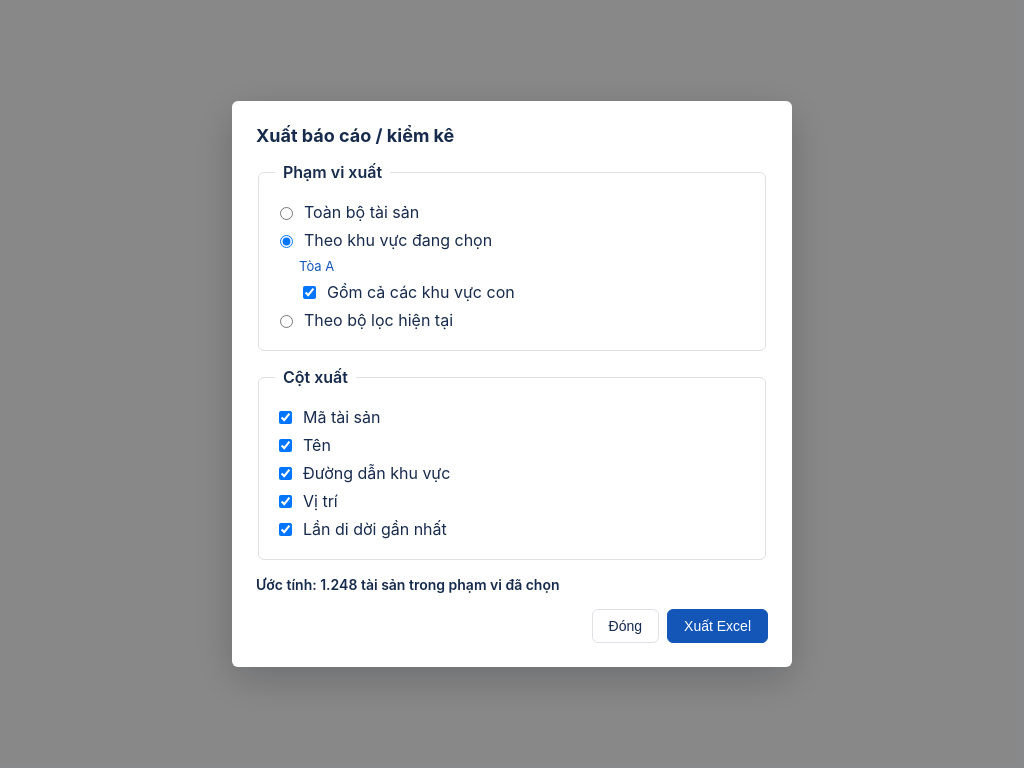
it: XuatBaoCaoModal — S08 › TC-S08-17: đổi phạm vi Toàn bộ → Tòa A gồm con cập nhật 1.250 → 1.248
Click the radio button labelled "Toàn bộ tài sản" at (286, 214), box [280,207,293,220]
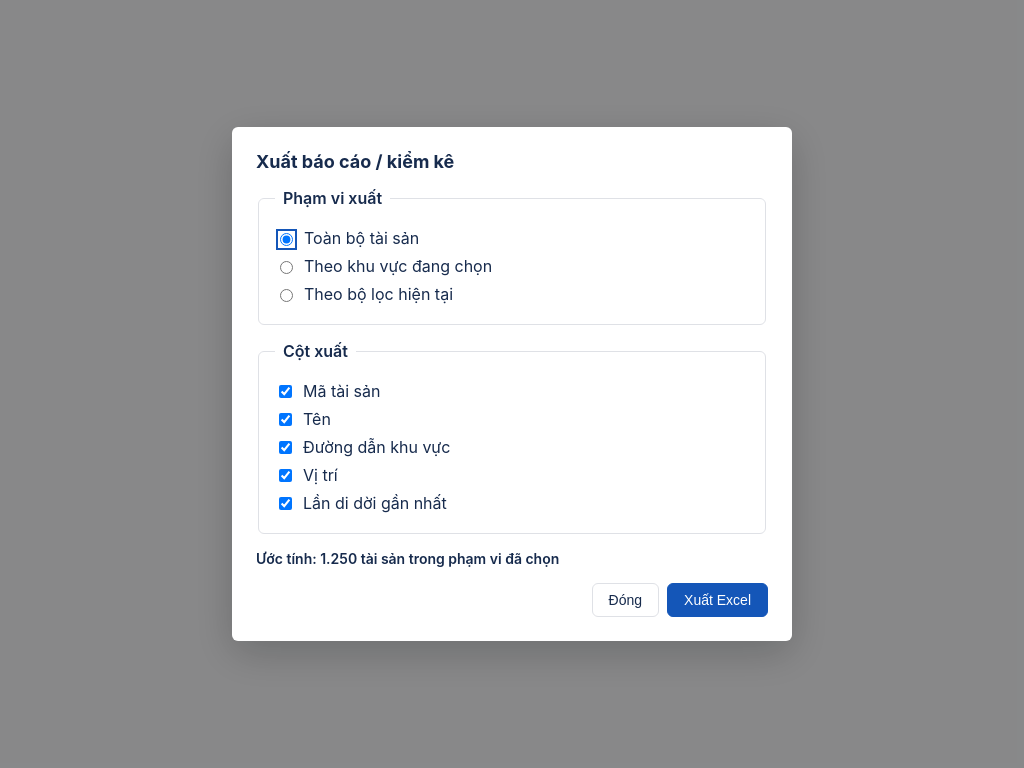
Check: the text "Ước tính: 1.250 tài sản trong phạm vi đã chọn" is shown, box [256,550,559,567]
Click the radio button labelled "Theo khu vực đang chọn" at (286, 268), box [280,261,293,274]
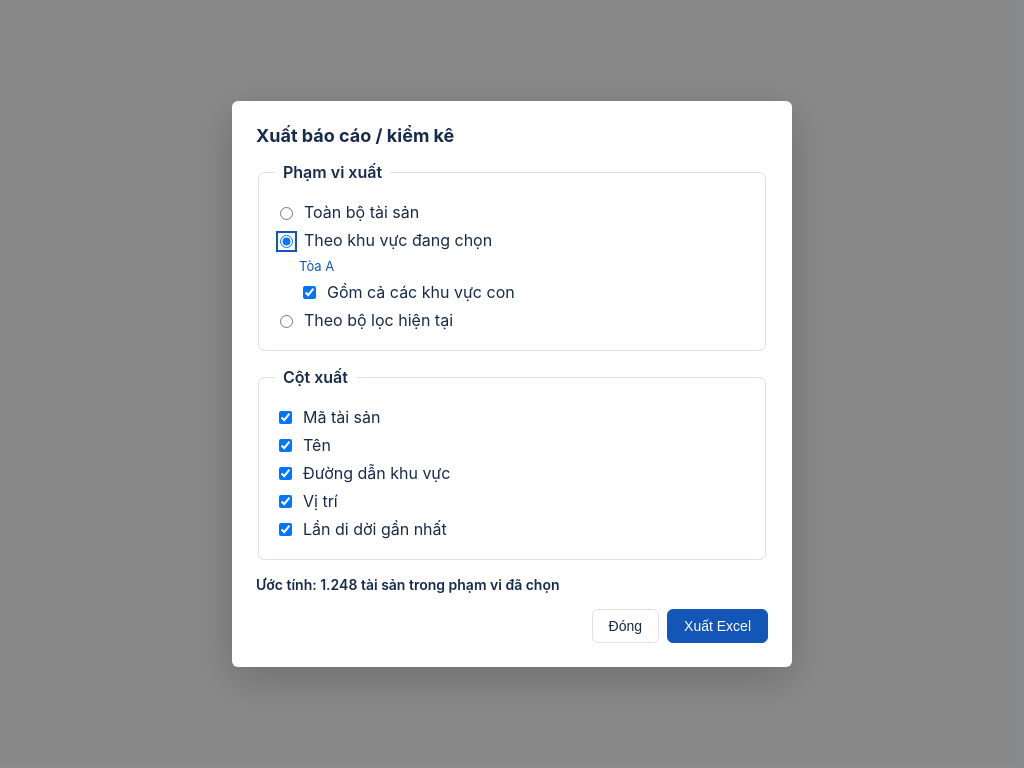
Check: the text "Ước tính: 1.248 tài sản trong phạm vi đã chọn" is shown, box [256,576,560,593]
